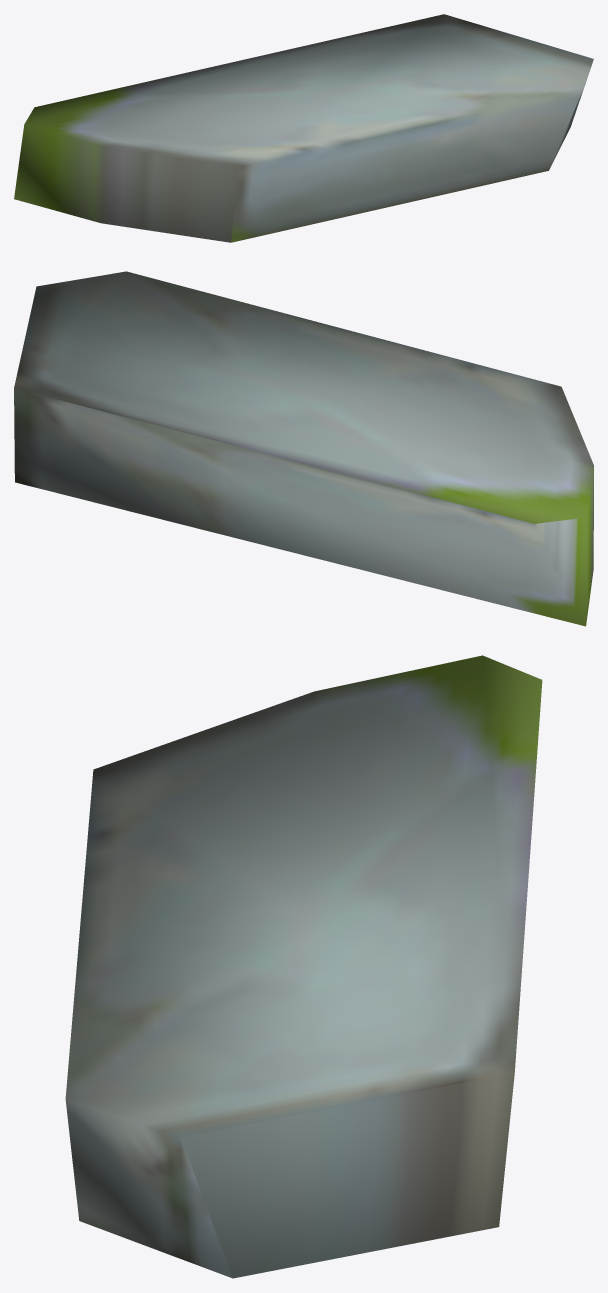
File: Map_06_brick10.FBX
3 renders of one model, top to bottom at view 1: azimuth 30°, elevation 25°; view 2: azimuth 150°, elevation 25°; view 3: azimuth 270°, elevation 25°, orthographic. The views are drawn at different scales.
Parts seen in each view (by area): view 1: Map_06_brick10; view 2: Map_06_brick10; view 3: Map_06_brick10.
Part boxes in pixels (bbox=[...]): Map_06_brick10: bbox=[14, 14, 593, 242]; Map_06_brick10: bbox=[14, 271, 593, 626]; Map_06_brick10: bbox=[65, 655, 542, 1278].
Size of the model in its own units: 194 by 80.17 by 28.86.
